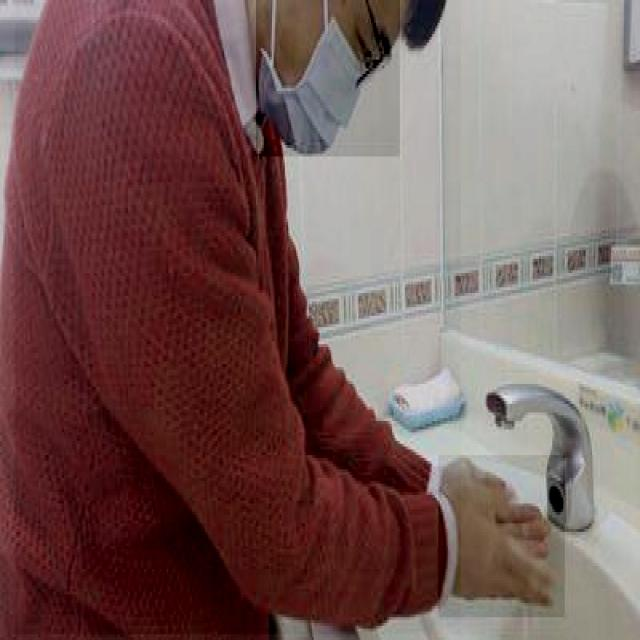face_mask: (255, 0, 400, 159)
glasses: (342, 0, 395, 102)
hand_noglove: (437, 455, 565, 620)
person: (13, 0, 461, 637)
